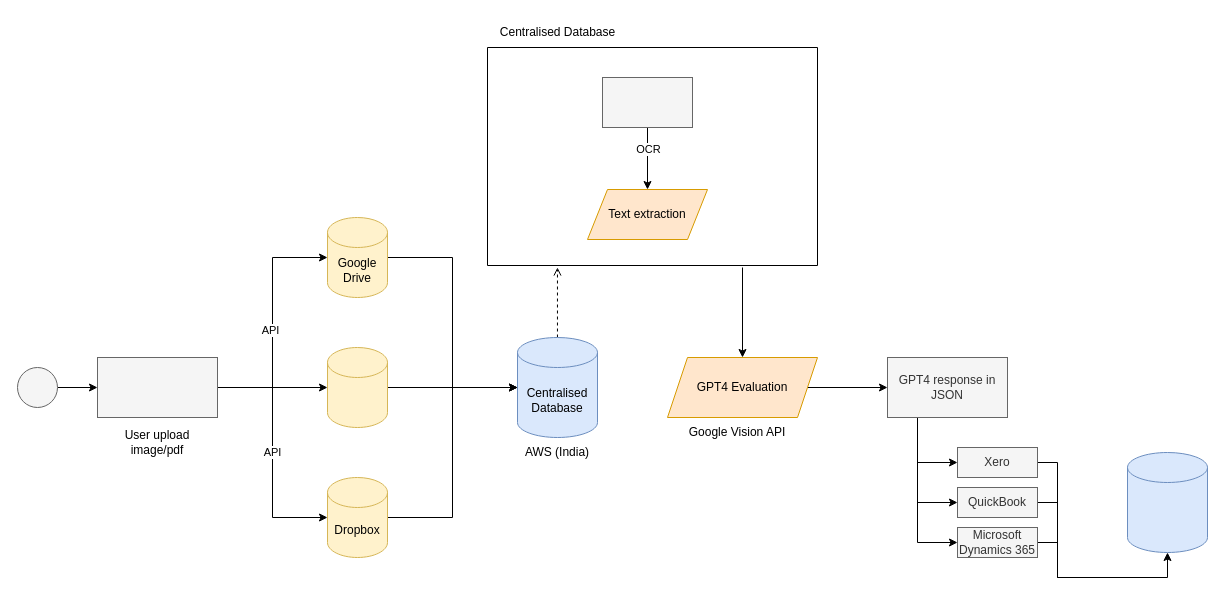
Image size: 1225x603. Some labels were removed from this diagram. The shapes that lost their labels are listed below. From the top down, each one's centre as x and y in pixels, then its label:
At (647,102): "Image/PDF".
At (157,387): "NextJS App".
At (357,387): "OneDrive".
At (1167,502): "Centralised Database AWS".
